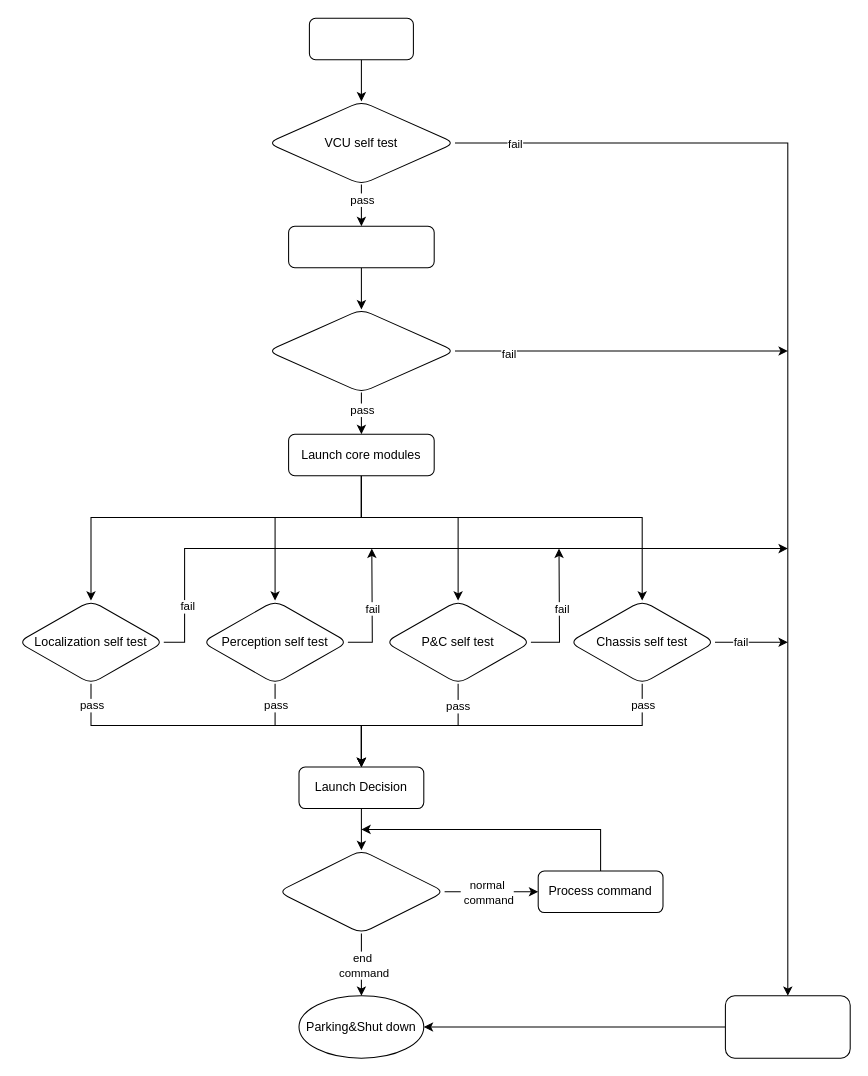
Image size: 868x1076. Some labels were removed from this diagram. The box of each missing label's shape, as (x1, y1, x2, y2) in pixels:
Error output &warning: (724, 995, 850, 1058)
Ignite: (308, 17, 413, 60)
Initialize sensor drivers: (288, 225, 434, 268)
Sensor self test: (267, 308, 455, 393)
Waiting for commands: (277, 849, 445, 933)
